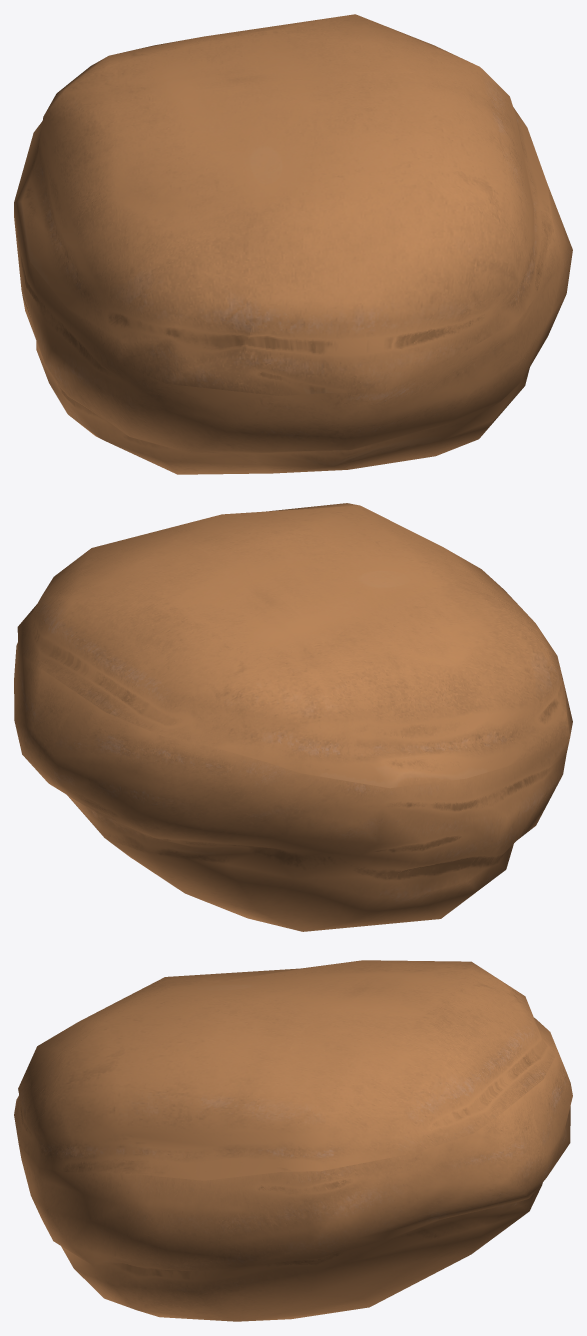
File: rock1.fbx
3 views of the same model, one above another, from view 1: azimuth 30°, elevation 25°; view 2: azimuth 150°, elevation 25°; view 3: azimuth 270°, elevation 25° (orthographic). The views are drawn at different scales.
Visible parts, largest first — view 1: Cube.000; view 2: Cube.000; view 3: Cube.000.
Boxes of the visible parts, box(x1,y1,x2,y2) form: Cube.000: box(14, 14, 572, 474); Cube.000: box(14, 503, 572, 931); Cube.000: box(14, 960, 572, 1321).
Size of the model in its own units: 87.34 by 59.4 by 95.02.
Materials: 1 (1 with a texture image).
